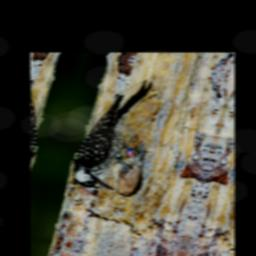Woodpecker: (66, 73, 165, 195)
